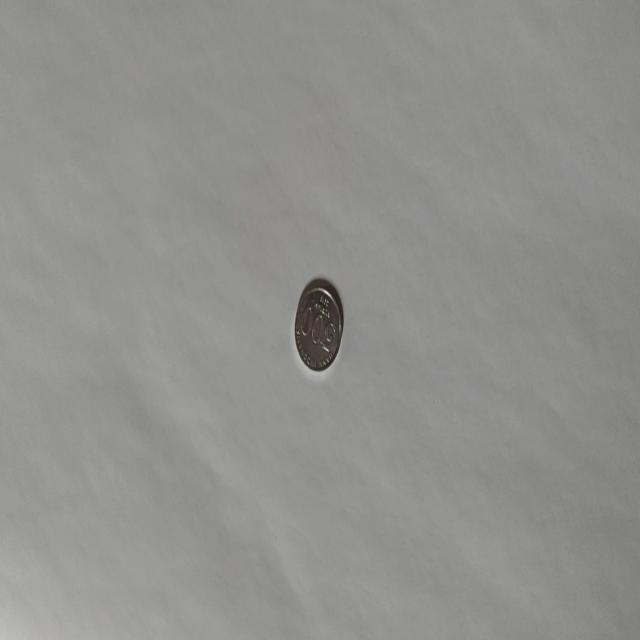lima ratus rupiah: (293, 278, 343, 372)
